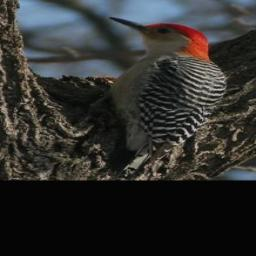Woodpecker: (85, 15, 233, 177)
